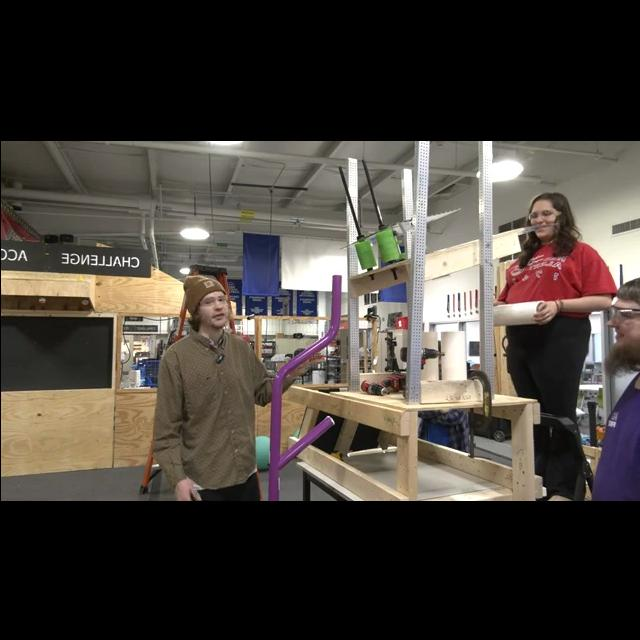CORAL: (492, 298, 546, 326), (440, 330, 466, 380)
